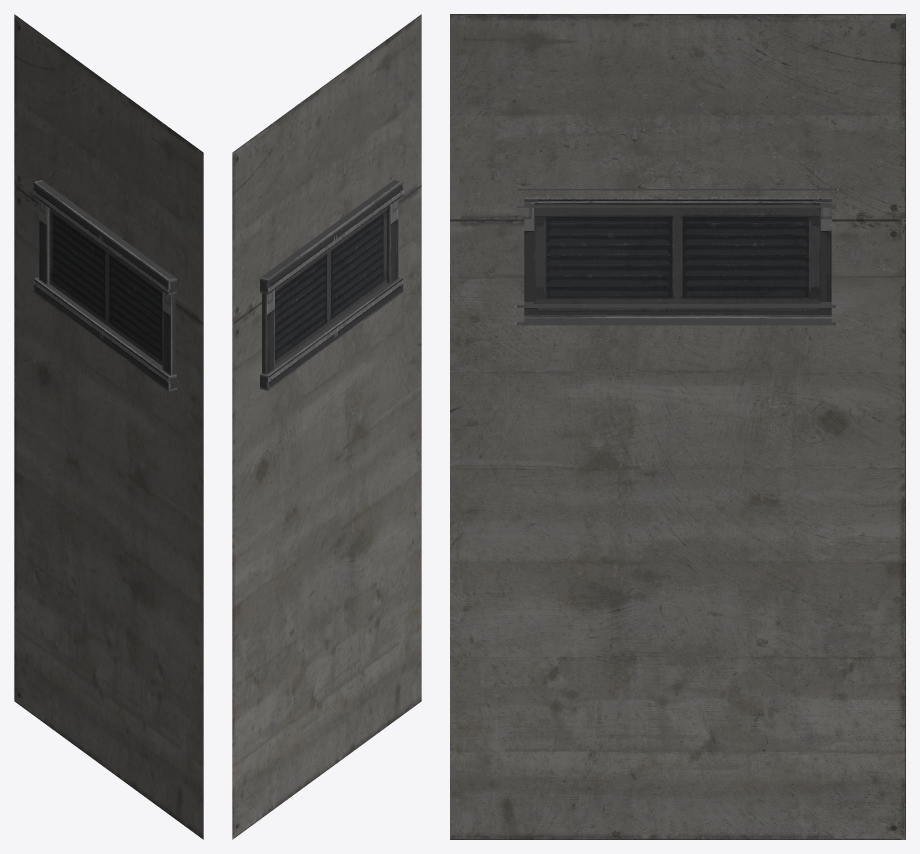
File: CP_Windows_4x2m_02.fbx
3 renders of one model, left to right at view 1: azimuth 30°, elevation 25°; view 2: azimuth 150°, elevation 25°; view 3: azimuth 270°, elevation 25°, orthographic. The views are drawn at different scales.
Parts seen in each view (by area): view 1: CP_Windows_4x2m_02; view 2: CP_Windows_4x2m_02; view 3: CP_Windows_4x2m_02.
Part boxes in pixels (left/top/right/bottom): CP_Windows_4x2m_02: left=14, top=14, right=203, bottom=839; CP_Windows_4x2m_02: left=232, top=14, right=421, bottom=839; CP_Windows_4x2m_02: left=450, top=14, right=905, bottom=839.
Bounding box in the file's own units: 8.33 × 400 × 200.
